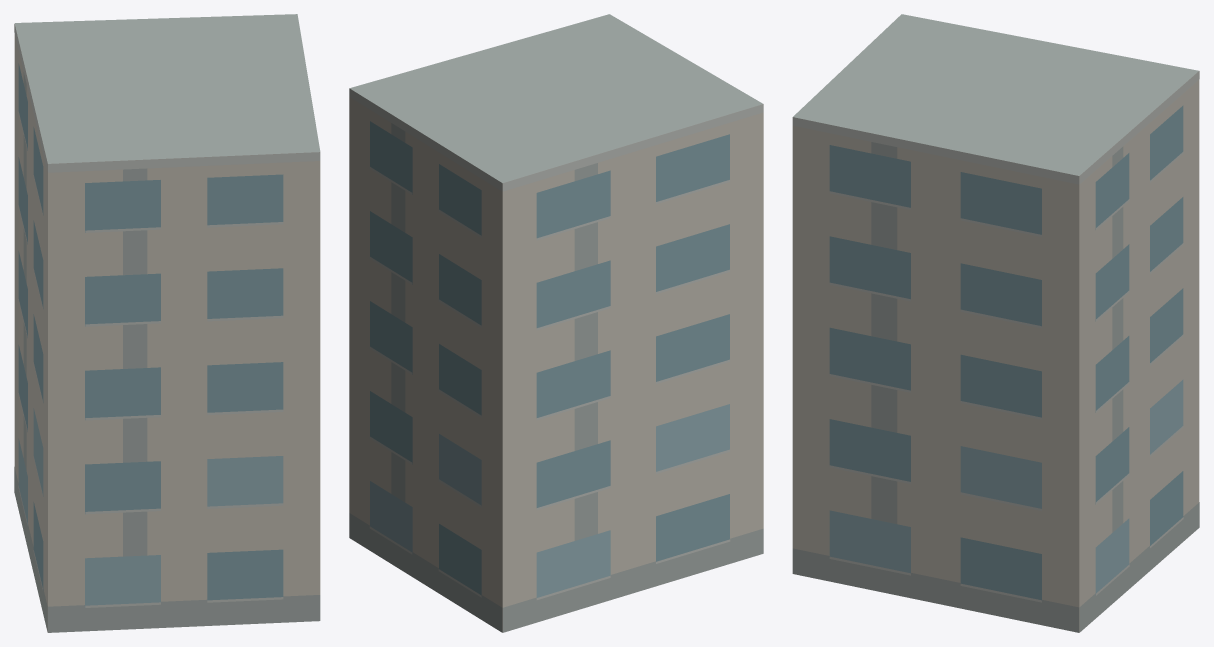
Rendered from survey-upis-32727876.glb.
The picture shows the model from 3 angles, left to right: view 1: azimuth 30°, elevation 25°; view 2: azimuth 150°, elevation 25°; view 3: azimuth 270°, elevation 25°; orthographic projection. The views are drawn at different scales.
Visible parts, largest first — view 1: survey-upis-32727876.tmp; view 2: survey-upis-32727876.tmp; view 3: survey-upis-32727876.tmp.
Boxes of the visible parts, x1,y1,x2,y2 form: survey-upis-32727876.tmp: [14, 14, 320, 632]; survey-upis-32727876.tmp: [349, 14, 763, 632]; survey-upis-32727876.tmp: [792, 14, 1199, 632].
Size of the model in its own units: 9.82 by 12.9 by 10.42.
